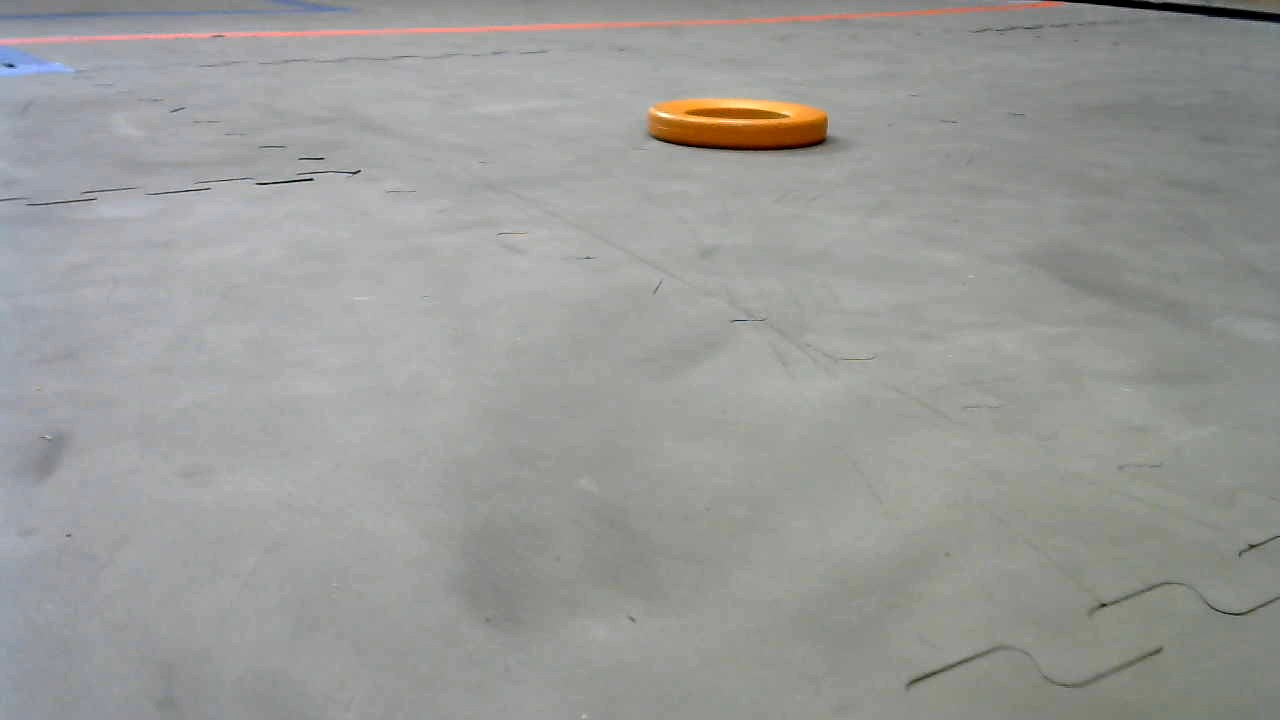OneStack: (651, 97, 829, 151)
